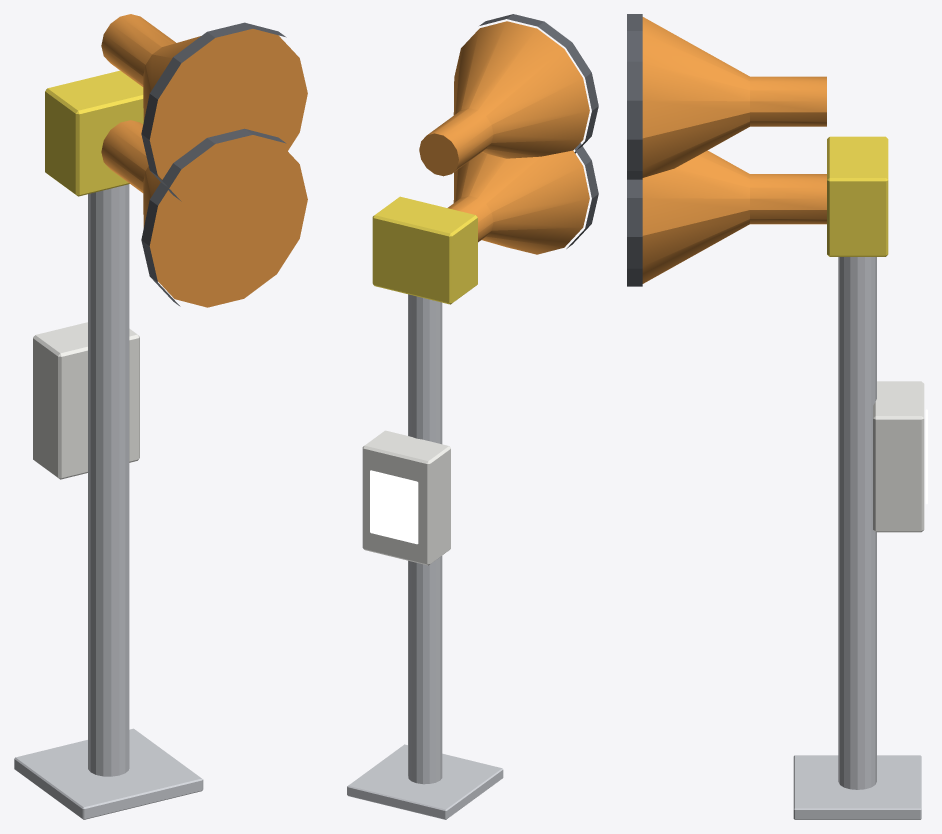
The model's file is offshore-oil-rig-and-platform-foghorn-2c8d7211__37055.glb.
3 renders of one model, left to right at view 1: azimuth 30°, elevation 25°; view 2: azimuth 150°, elevation 25°; view 3: azimuth 270°, elevation 25°, orthographic. The views are drawn at different scales.
Visible parts, largest first — view 1: foghorn; view 2: foghorn; view 3: foghorn.
Boxes of the visible parts, box(x1,y1,x2,y2) form: foghorn: box(14, 14, 307, 819); foghorn: box(347, 14, 598, 819); foghorn: box(627, 14, 927, 819).
Size of the model in its own units: 0.7 by 3.32 by 1.17.
